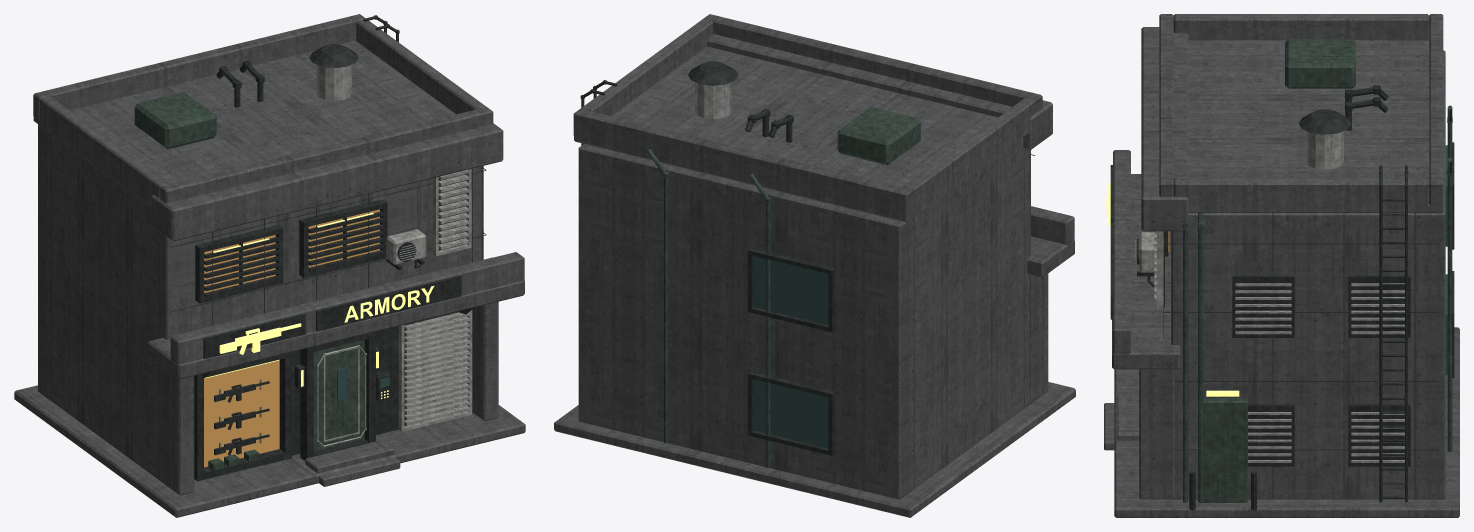
The model's file is armory.glb.
3 views of the same model, side by side, from view 1: azimuth 30°, elevation 25°; view 2: azimuth 150°, elevation 25°; view 3: azimuth 270°, elevation 25° (orthographic). The views are drawn at different scales.
Visible parts, largest first — view 1: ArmoryV1_Concrete, ArmoryV1_Gunmetal, ArmoryV1_AgedAluminium, ArmoryV1_ServiceGreen, ArmoryV1_InteriorAmber, ArmoryV1_AmberLight; view 2: ArmoryV1_Concrete, ArmoryV1_TealGlass, ArmoryV1_ServiceGreen, ArmoryV1_Gunmetal, ArmoryV1_AgedAluminium; view 3: ArmoryV1_Concrete, ArmoryV1_Gunmetal, ArmoryV1_ServiceGreen, ArmoryV1_AgedAluminium, ArmoryV1_TealGlass, ArmoryV1_AmberLight.
Part boxes in pixels (box(x1,y1,x2,y2)): ArmoryV1_Concrete: box(14, 14, 525, 517); ArmoryV1_Gunmetal: box(170, 15, 486, 481); ArmoryV1_AgedAluminium: box(219, 64, 472, 447); ArmoryV1_ServiceGreen: box(134, 92, 483, 470); ArmoryV1_InteriorAmber: box(204, 209, 379, 467); ArmoryV1_AmberLight: box(205, 212, 434, 399); ArmoryV1_Concrete: box(554, 14, 1075, 517); ArmoryV1_TealGlass: box(754, 256, 828, 448); ArmoryV1_ServiceGreen: box(646, 107, 920, 467); ArmoryV1_Gunmetal: box(580, 61, 1035, 455); ArmoryV1_AgedAluminium: box(695, 82, 731, 119); ArmoryV1_Concrete: box(1104, 14, 1459, 517); ArmoryV1_Gunmetal: box(1110, 85, 1454, 510); ArmoryV1_ServiceGreen: box(1183, 39, 1452, 502); ArmoryV1_AgedAluminium: box(1135, 131, 1404, 462); ArmoryV1_TealGlass: box(1445, 145, 1447, 375); ArmoryV1_AmberLight: box(1106, 183, 1239, 396).
Bounding box in the file's own units: 9.22 × 8.28 × 7.52.
Materials: 7 (4 with a texture image).
